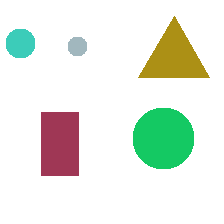circle: (133, 108, 193, 168), (6, 29, 34, 57), (68, 37, 86, 55)
rectangle: (41, 112, 78, 175)
triangle: (138, 16, 209, 77)
